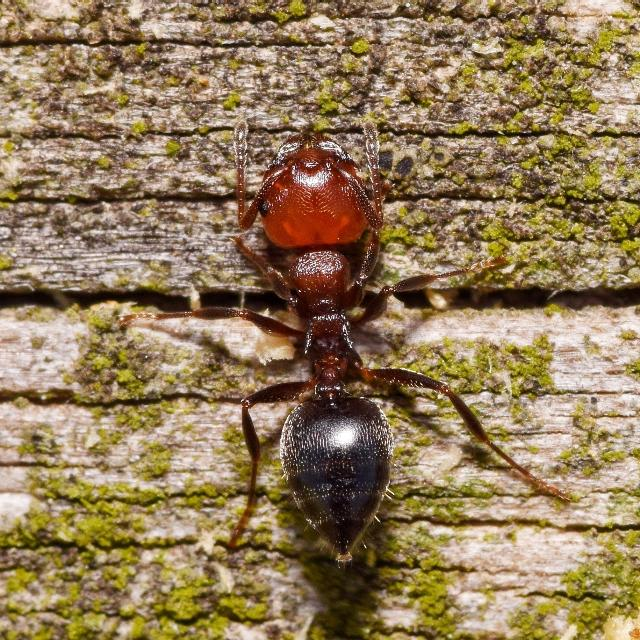Crematogaster: (198, 101, 447, 565)
